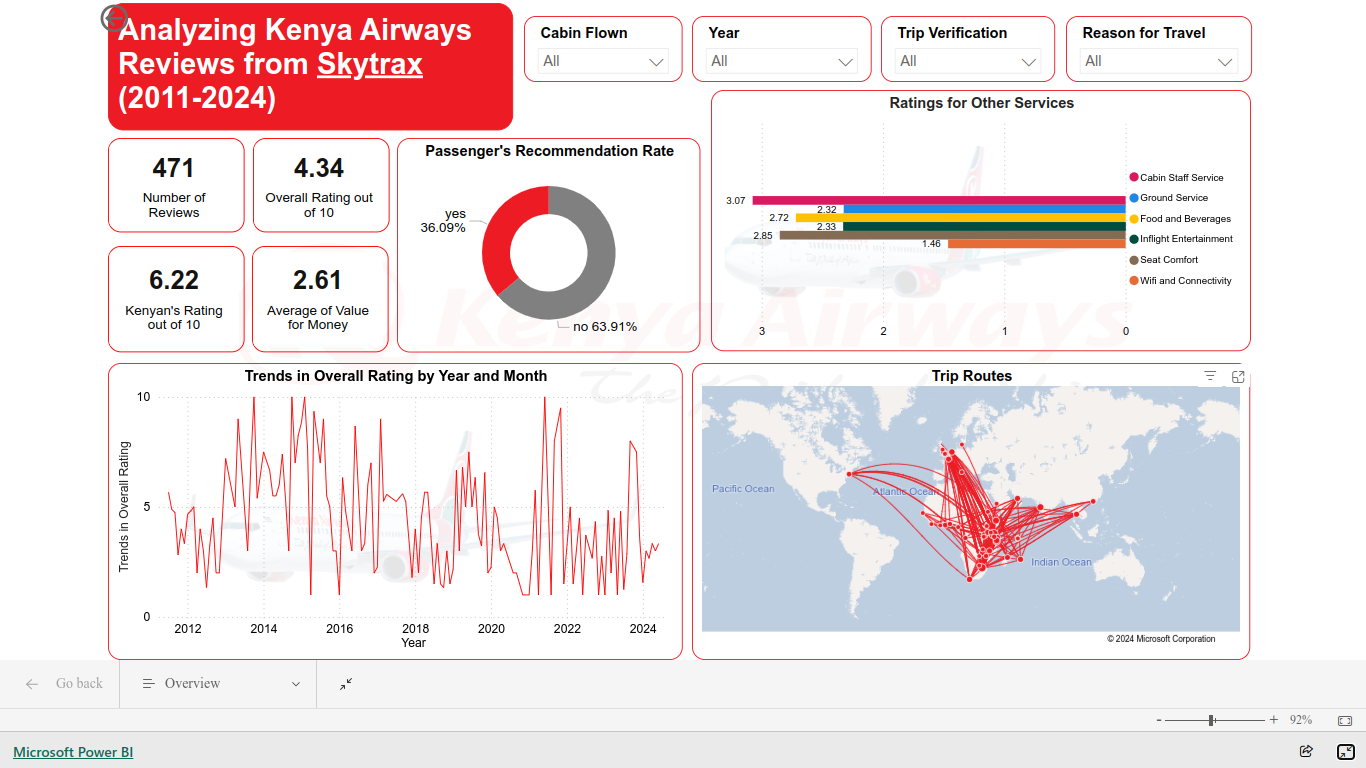

Layout of this report page (visuals, bound fields, positions):
{"tool":"powerbi","page":{"name":"Overview","canvas":[1280,720],"ordinal":0},"visuals":[{"type":"flowmap30CFDD5B92F848C88242B1E81C8C33C7","title":"Trip Routes","fields":{"Origin":["KQ Reviews.City of Origin"],"Dest":["KQ Reviews.Destination City"],"OName":["Min(KQ Reviews.City of Origin)"],"DName":["Min(KQ Reviews.Destination City)"]},"box":[650.7,396,609.3,324],"z":0},{"type":"slicer","fields":{"Values":["KQ Reviews.Cabin Flown"]},"box":[467.3,17.1,173.3,72],"z":1000},{"type":"slicer","fields":{"Values":["KQ Reviews.Date Published.Variation.Date Hierarchy.Year"]},"box":[650.4,17.1,196.5,72],"z":2000},{"type":"slicer","fields":{"Values":["KQ Reviews.Trip Verification"]},"box":[856.6,17.1,190.4,72],"z":3000},{"type":"slicer","fields":{"Values":["KQ Reviews.Reason for Travel"]},"box":[1057.9,17.1,202.6,72],"z":4000},{"type":"donutChart","title":"Passenger''s Recommendation Rate","fields":{"Y":["CountNonNull(KQ Reviews.Recommend KQ)"],"Category":["KQ Reviews.Recommend KQ"]},"box":[328.1,150.8,331.1,233.5],"z":5000},{"type":"cardVisual","fields":{"Data":["Avg(KQ Reviews.Overall Rating)"]},"box":[171,150.8,149.3,103.5],"z":6000},{"type":"cardVisual","fields":{"Data":["KQ Reviews.Number of Reviews"]},"box":[13.3,150.8,149.3,103.5],"z":7000},{"type":"lineChart","fields":{"Category":["KQ Reviews.Date Published.Variation.Date Hierarchy.Year","KQ Reviews.Date Published.Variation.Date Hierarchy.Month","KQ Reviews.Date Published.Variation.Date Hierarchy.Day"],"Y":["Avg(KQ Reviews.Overall Rating)"]},"box":[13.3,396,626.7,324],"z":8000},{"type":"cardVisual","fields":{"Data":["Avg(KQ Reviews.Value for Money)"]},"box":[170.7,268,149.3,116],"z":9000},{"type":"clusteredBarChart","title":"Ratings for Other Services","fields":{"Y":["Avg(KQ Reviews.Cabin Staff Service)","Avg(KQ Reviews.Ground Service)","Avg(KQ Reviews.Food and Beverages)","Avg(KQ Reviews.Inflight Entertainment)","Avg(KQ Reviews.Seat Comfort)","Avg(KQ Reviews.Wifi and Connectivity)"]},"box":[670.7,98.7,589.3,285.3],"z":10000},{"type":"textbox","box":[13.4,3.7,441.7,139.1],"z":11000},{"type":"cardVisual","fields":{"Data":["KQ Reviews.Kenyan's Rating"]},"box":[13.3,268,149.3,116],"z":12000},{"type":"actionButton","box":[0,0,100,40],"z":13000}]}

Visuals, with their boxes on the page's 1280x720 design canvas (x1, y1, x2, y2). These are canvas units, not pixel positions in the 1366x768 screenshot, which may show the page scaled, cropped or inside an application window:
"Trip Routes" flowmap30CFDD5B92F848C88242B1E81C8C33C7: <bbox>651, 396, 1260, 720</bbox>
slicer - KQ Reviews.Cabin Flown: <bbox>467, 17, 641, 89</bbox>
slicer - KQ Reviews.Date Published.Variation.Date Hierarchy.Year: <bbox>650, 17, 847, 89</bbox>
slicer - KQ Reviews.Trip Verification: <bbox>857, 17, 1047, 89</bbox>
slicer - KQ Reviews.Reason for Travel: <bbox>1058, 17, 1260, 89</bbox>
"Passenger''s Recommendation Rate" donutChart: <bbox>328, 151, 659, 384</bbox>
cardVisual - Avg(KQ Reviews.Overall Rating): <bbox>171, 151, 320, 254</bbox>
cardVisual - KQ Reviews.Number of Reviews: <bbox>13, 151, 163, 254</bbox>
lineChart - KQ Reviews.Date Published.Variation.Date Hierarchy.Year x KQ Reviews.Date Published.Variation.Date Hierarchy.Month: <bbox>13, 396, 640, 720</bbox>
cardVisual - Avg(KQ Reviews.Value for Money): <bbox>171, 268, 320, 384</bbox>
"Ratings for Other Services" clusteredBarChart: <bbox>671, 99, 1260, 384</bbox>
textbox: <bbox>13, 4, 455, 143</bbox>
cardVisual - KQ Reviews.Kenyan's Rating: <bbox>13, 268, 163, 384</bbox>
actionButton: <bbox>0, 0, 100, 40</bbox>
